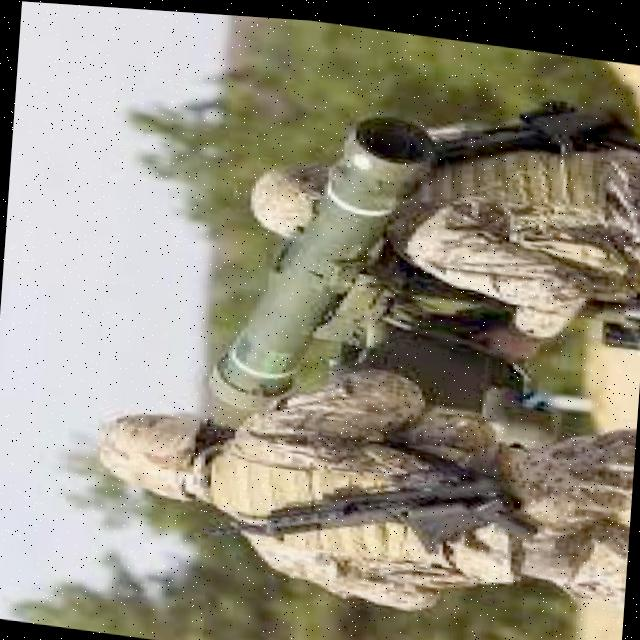rocket: (198, 87, 440, 428)
